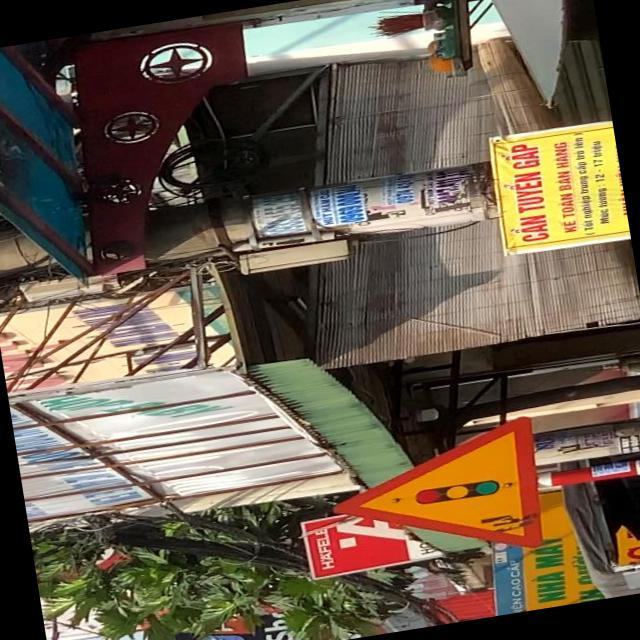W-209: (324, 416, 548, 576)
